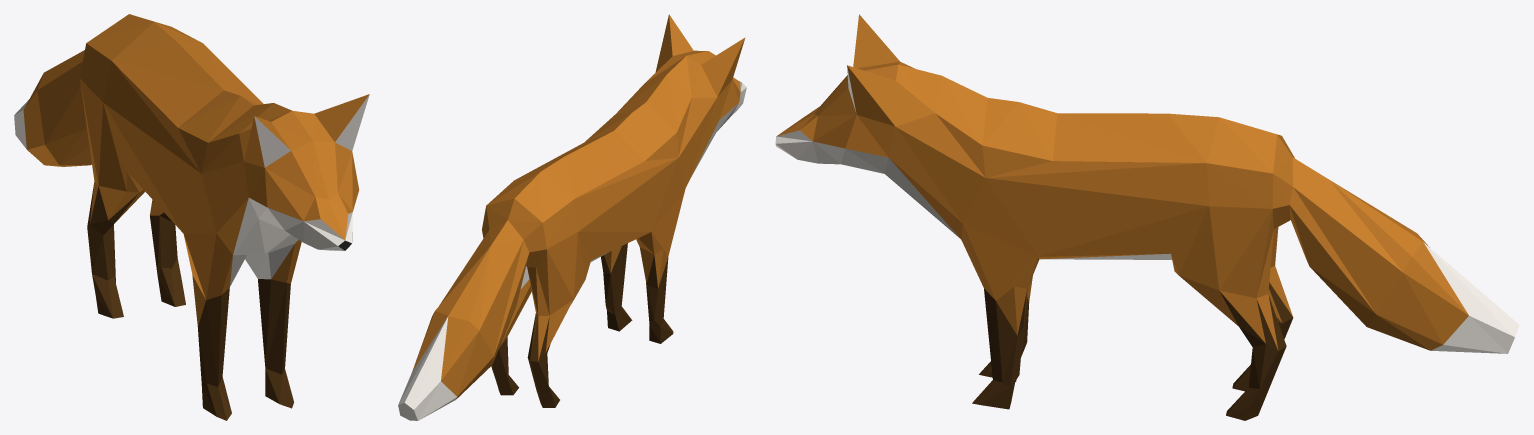
File: fox.fbx
3 views of the same model, side by side, from view 1: azimuth 30°, elevation 25°; view 2: azimuth 150°, elevation 25°; view 3: azimuth 270°, elevation 25° (orthographic). The views are drawn at different scales.
Visible parts, largest first — view 1: Cube_001; view 2: Cube_001; view 3: Cube_001.
Part boxes in pixels (<box>): Cube_001: <box>14,14,369,420</box>; Cube_001: <box>398,14,746,420</box>; Cube_001: <box>775,14,1519,420</box>.
Bounding box in the file's own units: 110 × 272 × 530.
